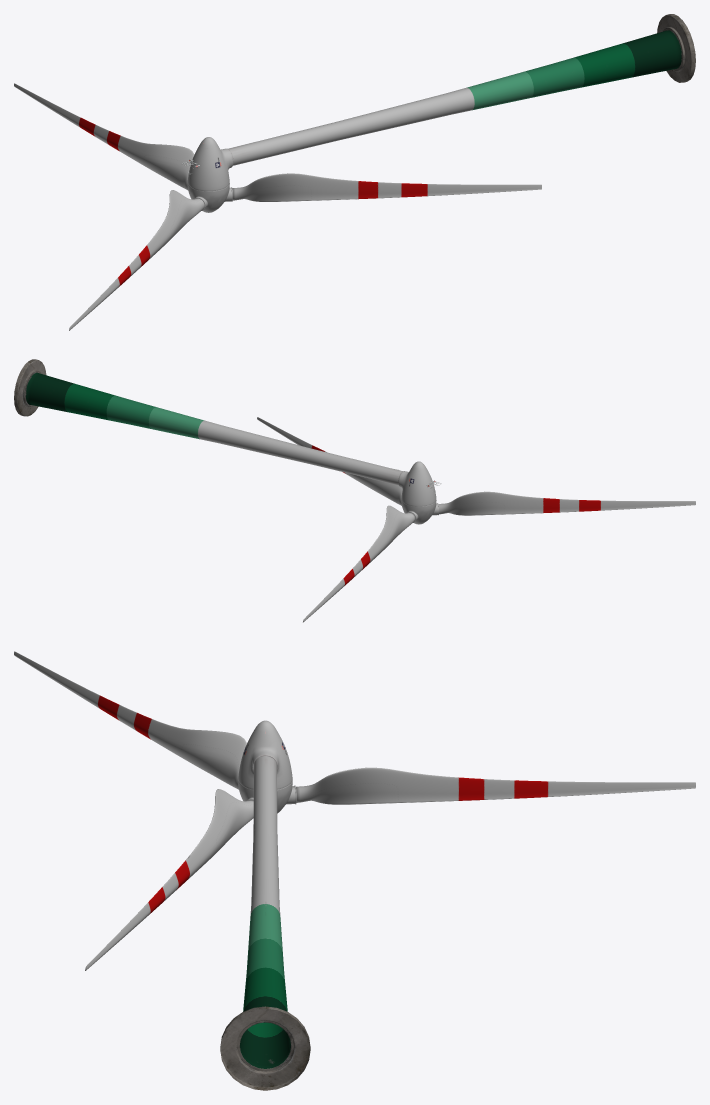
Rendered from Wind Turbine 03.fbx.
3 renders of one model, top to bottom at view 1: azimuth 30°, elevation 25°; view 2: azimuth 150°, elevation 25°; view 3: azimuth 270°, elevation 25°, orthographic. The views are drawn at different scales.
Visible parts, largest first — view 1: pole_low, blade_low, body_low; view 2: pole_low, blade_low, body_low; view 3: blade_low, pole_low, body_low.
Boxes of the visible parts, x1=… form: pole_low: x1=228, y1=14, x2=695, y2=165; blade_low: x1=14, y1=83, x2=541, y2=330; body_low: x1=187, y1=137, x2=233, y2=191; pole_low: x1=14, y1=359, x2=402, y2=485; blade_low: x1=257, y1=417, x2=695, y2=622; body_low: x1=398, y1=461, x2=436, y2=506; blade_low: x1=14, y1=651, x2=695, y2=970; pole_low: x1=220, y1=756, x2=310, y2=1090; body_low: x1=238, y1=720, x2=292, y2=789.
Bounding box in the file's own units: 1455 × 245 × 2246.
Materials: 1 (1 with a texture image).
